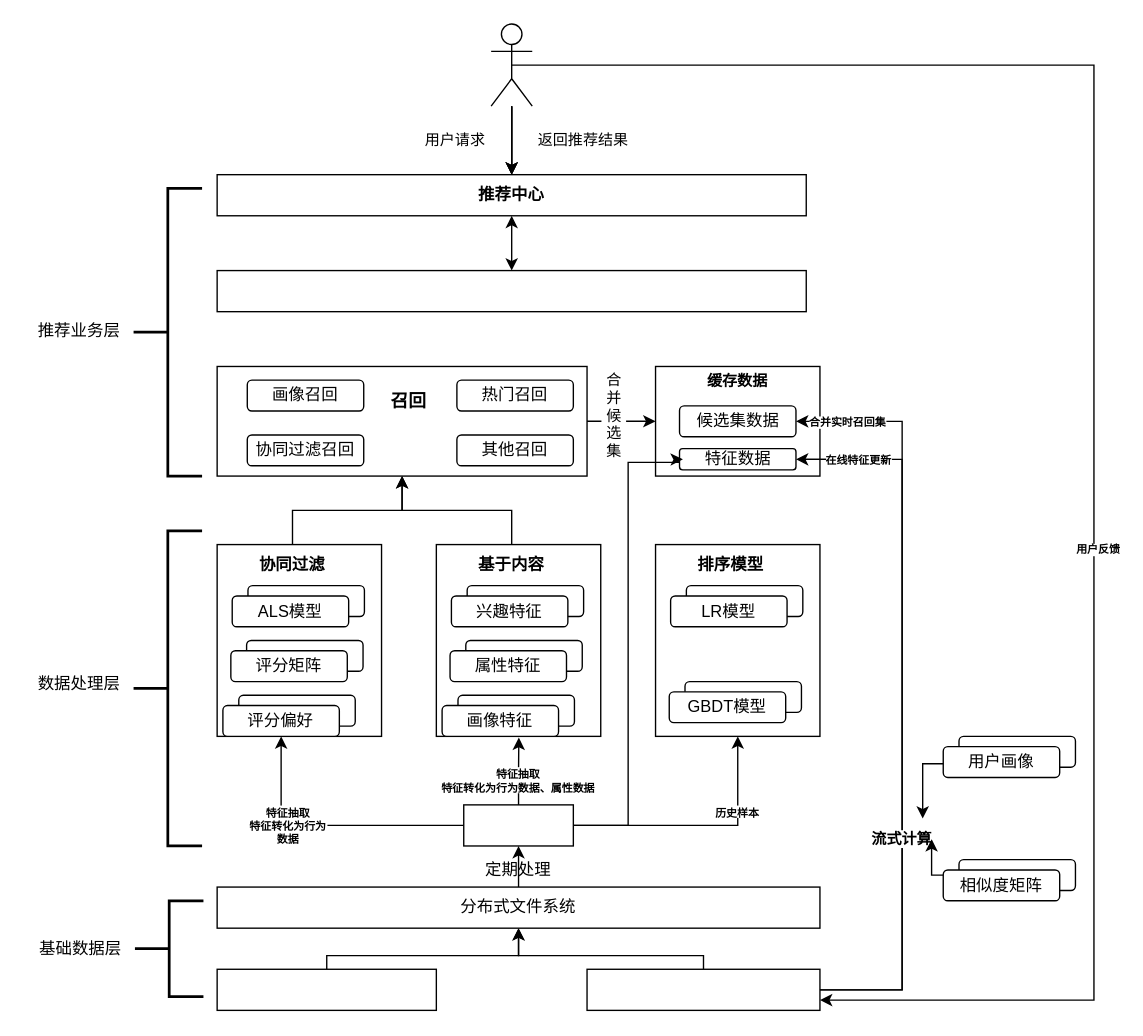
This 1143x1036 diagram has some shape labels left out. Here are the shapes that lost their labels. From the top down, the centre of each, then its label:
At pixel 511 290: "排序&&过滤".
At pixel 517 825: "批量处理/计算".
At pixel 326 989: "业务数据库".
At pixel 703 989: "日志系统".
